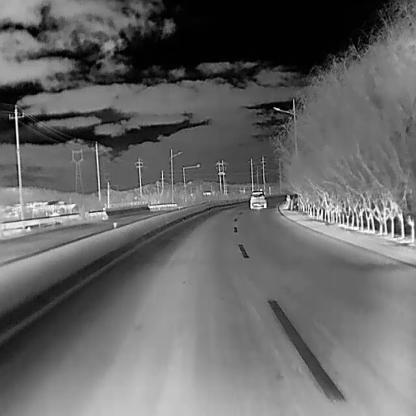car: (249, 189, 266, 207)
